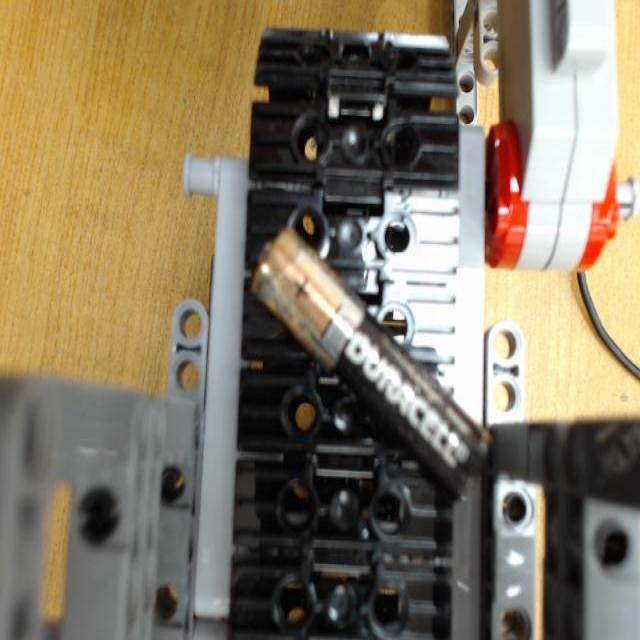AAA: (244, 230, 492, 493)
